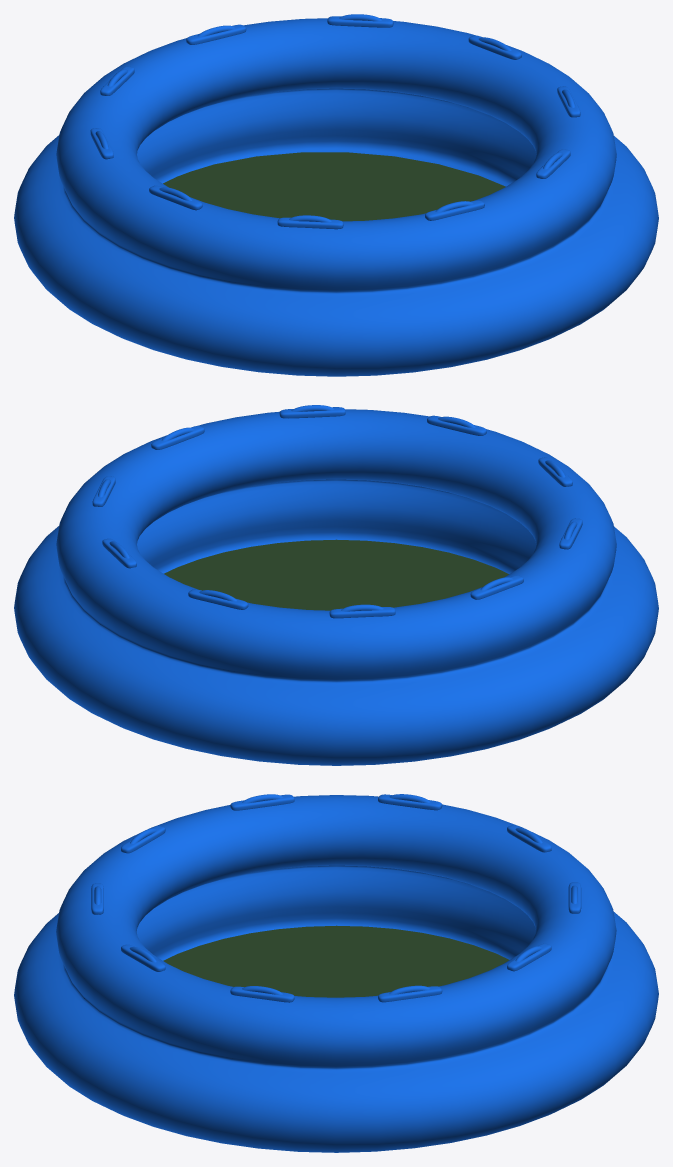
File: pscinas.glb
The picture shows the model from 3 angles, top to bottom: view 1: azimuth 30°, elevation 25°; view 2: azimuth 150°, elevation 25°; view 3: azimuth 270°, elevation 25°; orthographic projection.
Visible parts, largest first — view 1: 16831_white_water_river_raft_v2, Cilindro; view 2: 16831_white_water_river_raft_v2, Cilindro; view 3: 16831_white_water_river_raft_v2, Cilindro.
Part boxes in pixels (<box>): 16831_white_water_river_raft_v2: <box>14,14,658,376</box>; Cilindro: <box>163,152,505,221</box>; 16831_white_water_river_raft_v2: <box>14,405,658,765</box>; Cilindro: <box>164,539,508,610</box>; 16831_white_water_river_raft_v2: <box>14,794,658,1152</box>; Cilindro: <box>163,925,509,997</box>.
Size of the model in its own units: 316 by 78.61 by 316.
